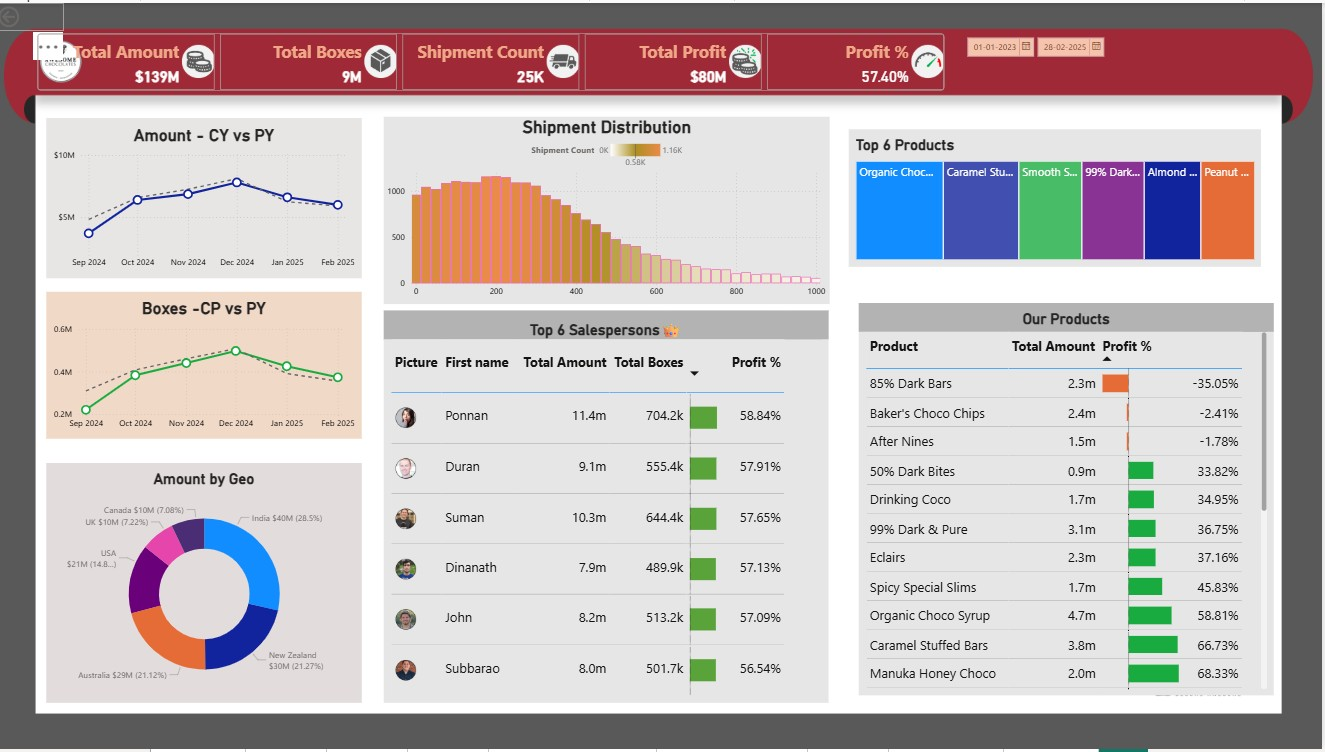

The dashboard page shown, as its layout file describes it:
{"tool":"powerbi","page":{"name":"BI  Report","canvas":[1920,1080],"ordinal":7},"visuals":[{"type":"lineChart","title":"Amount - CY vs PY","fields":{"Y":["shipments.Total Amount","shipments.Total Amount(last year)"],"Category":["calendar.Start of Month"]},"box":[74.2,165.9,456.7,232.2],"z":0},{"type":"lineChart","title":"Boxes -CP vs PY","fields":{"Y":["shipments.Total Boxes","shipments.Total Boxes(last year)"],"Category":["calendar.Start of Month"]},"box":[74.2,417.6,456.7,212.7],"z":1000},{"type":"donutChart","title":"Amount by Geo","fields":{"Category":["locations.Geo"],"Y":["shipments.Total Amount"]},"box":[74.2,665.5,456.7,347.4],"z":2000},{"type":"clusteredColumnChart","title":"Shipment Distribution","fields":{"Y":["shipments.Shipment Count"],"Category":["shipments.Boxes (bins)"]},"box":[562.1,163.9,646,271.3],"z":3000},{"type":"tableEx","title":"Top 6 Salespersons👑","fields":{"Values":["people.Picture","people.First name","shipments.Total Amount","shipments.Total Boxes","shipments.Profit %"]},"box":[562.1,445,644,567.9],"z":4000},{"type":"actionButton","box":[0,0,100,40],"z":5000},{"type":"treemap","title":"Top 6 Products","fields":{"Values":["shipments.Total Amount"],"Group":["products.Product"]},"box":[1235.4,183.5,597.2,199.1],"z":6000},{"type":"tableEx","title":"Our Products","fields":{"Values":["products.Product","shipments.Total Amount","shipments.Profit %"]},"box":[1251,435.2,601.1,567.9],"z":7000},{"type":"cardVisual","fields":{"Data":["shipments.Total Amount","shipments.Total Boxes","shipments.Shipment Count","shipments.Total Profit","shipments.Profit %"]},"box":[50.7,39,1325.2,87.8],"z":8000},{"type":"slicer","fields":{"Values":["calendar.cal_date"]},"box":[1395.4,39,456.7,70.3],"z":9000}]}

Visuals, with their boxes in screenshot pixels (x1, y1, x2, y2), scaled from the page's 1920x1080 canvas onto the 1325x752 screenshot:
"Amount - CY vs PY" lineChart: 51,116,366,277
"Boxes -CP vs PY" lineChart: 51,291,366,439
"Amount by Geo" donutChart: 51,463,366,705
"Shipment Distribution" clusteredColumnChart: 388,114,834,303
"Top 6 Salespersons👑" tableEx: 388,310,832,705
actionButton: 0,0,69,28
"Top 6 Products" treemap: 853,128,1265,266
"Our Products" tableEx: 863,303,1278,698
cardVisual - shipments.Total Amount x shipments.Total Boxes: 35,27,950,88
slicer - calendar.cal_date: 963,27,1278,76
